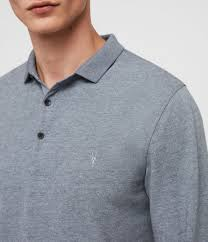S_polo shirt: (1, 39, 208, 225)
